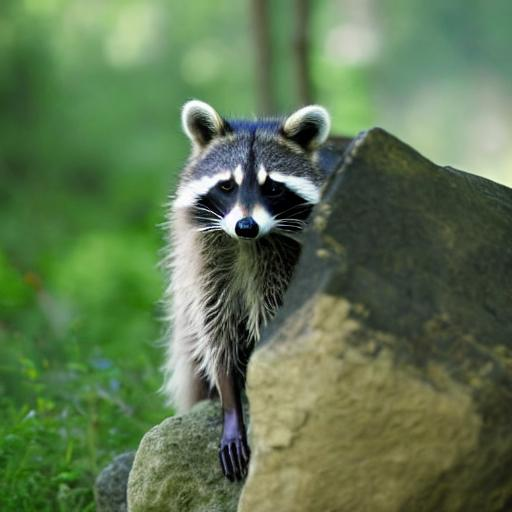raccoon: (144, 93, 342, 396)
